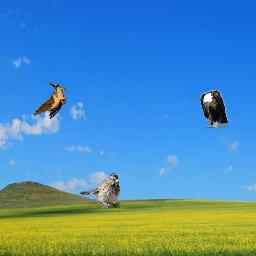Crow: (200, 89, 229, 129)
Sparrow: (80, 173, 120, 208)
Swallow: (33, 79, 67, 119)
